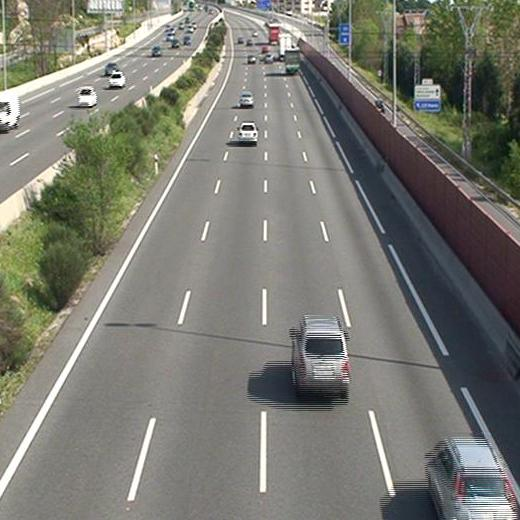car: (428, 438, 519, 520), (292, 319, 352, 394), (238, 121, 258, 142), (239, 91, 252, 106), (263, 53, 273, 63), (247, 55, 256, 62)
small-truck: (284, 48, 300, 74)
truck: (278, 33, 292, 60), (268, 23, 280, 43)
